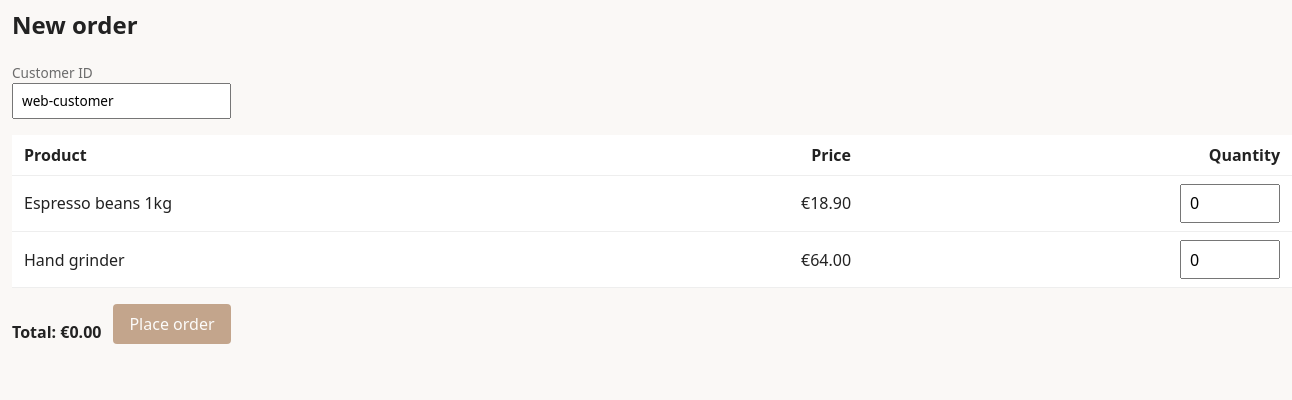
OrderFormPage › shows the problem detail when the order is refused
Type "1" into the number field named "Quantity of Hand grinder".
click(1230, 260); type("1")  # box [1180,240,1280,279]
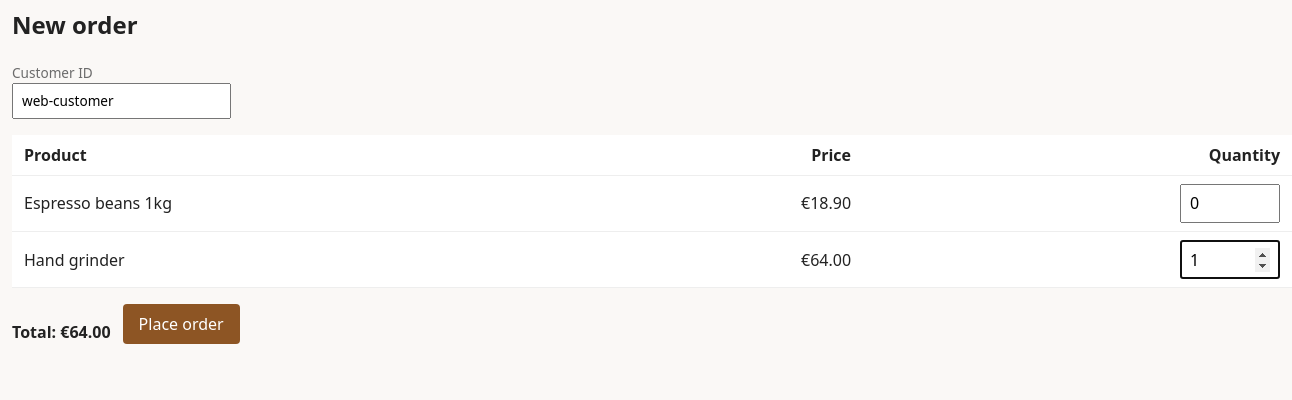
Click the button "Place order".
click(181, 324)  # box [123,304,240,344]
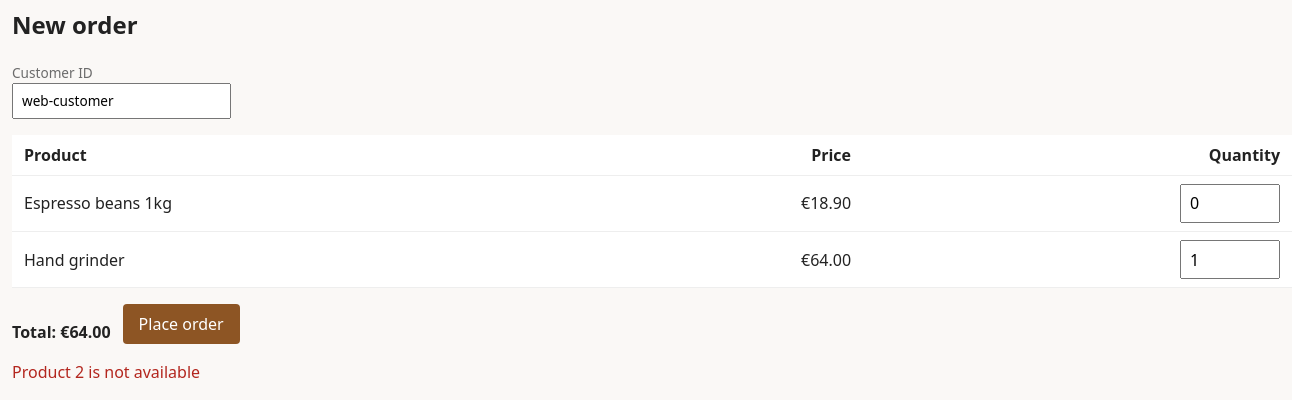
Now the text "Product 2 is not available" is shown, box [12,361,200,383]
